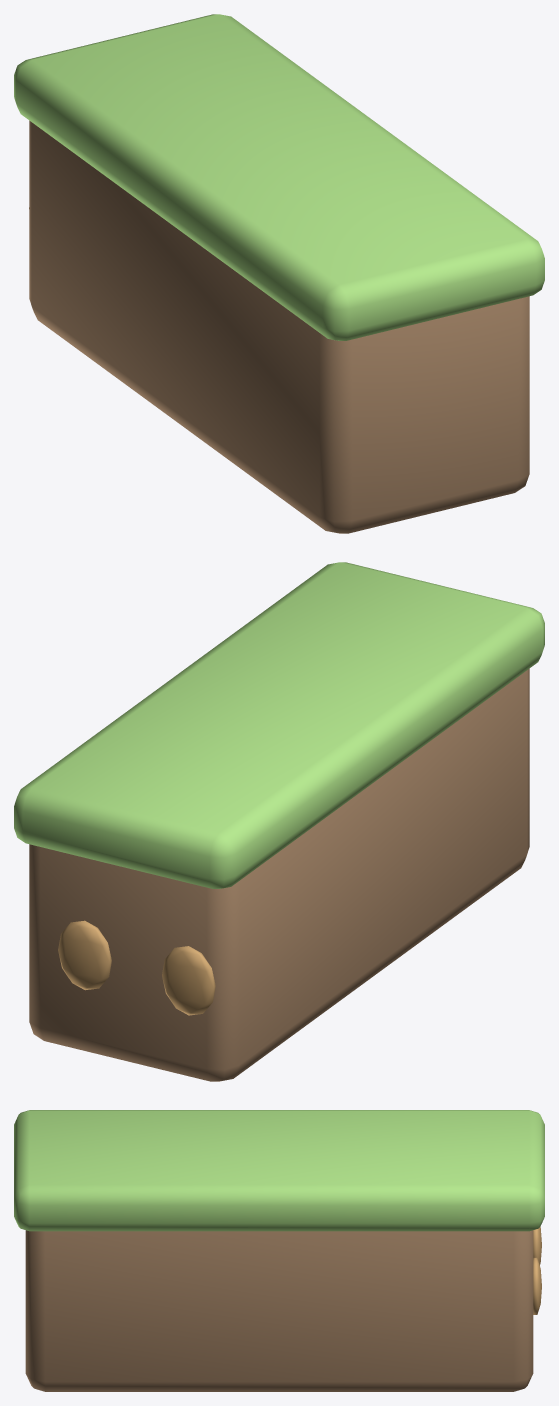
File: GrassTile.fbx
3 renders of one model, top to bottom at view 1: azimuth 30°, elevation 25°; view 2: azimuth 150°, elevation 25°; view 3: azimuth 270°, elevation 25°, orthographic. The views are drawn at different scales.
Parts seen in each view (by area): view 1: Soil, GrassCap; view 2: Soil, GrassCap, EmbeddedStone, EmbeddedStone.001; view 3: Soil, GrassCap, EmbeddedStone.001.
Boxes of the visible parts, <box> form: Soil: <box>29,120,529,533</box>; GrassCap: <box>14,14,544,340</box>; Soil: <box>29,668,529,1081</box>; GrassCap: <box>14,562,544,888</box>; EmbeddedStone: <box>162,946,215,1015</box>; EmbeddedStone.001: <box>58,920,111,990</box>; Soil: <box>25,1230,533,1391</box>; GrassCap: <box>14,1110,544,1231</box>; EmbeddedStone.001: <box>533,1257,541,1314</box>.
Bounding box in the file's own units: 1.06 × 1.19 × 2.72.
